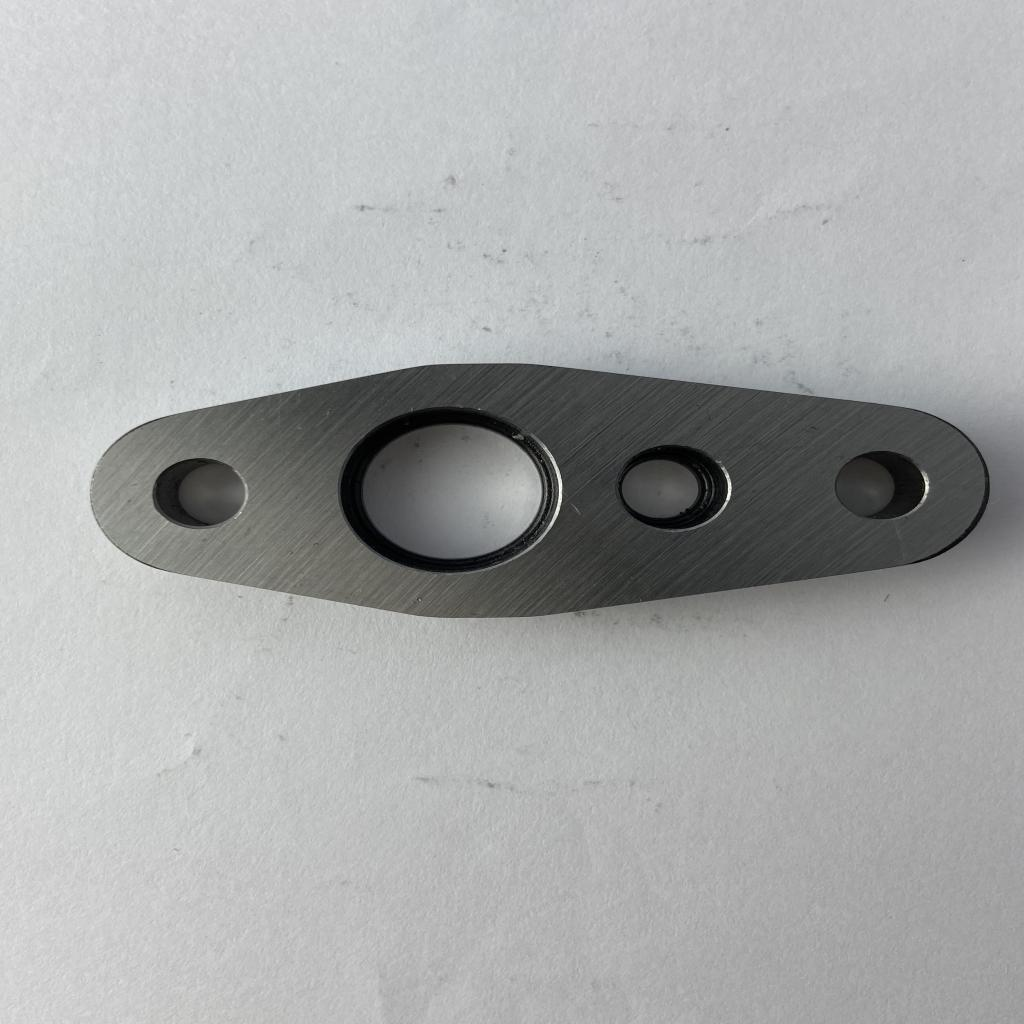chap: (570, 501, 582, 516), (411, 595, 426, 606), (715, 458, 724, 467)
